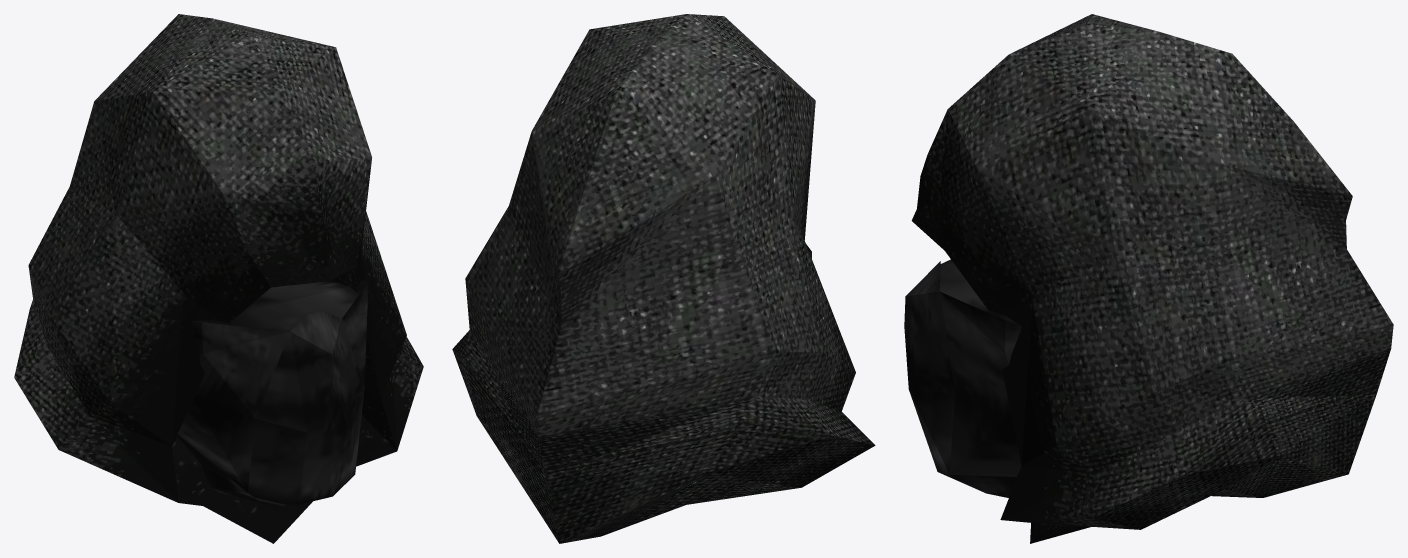
The model's file is MASK_CZAR.glb.
3 renders of one model, left to right at view 1: azimuth 30°, elevation 25°; view 2: azimuth 150°, elevation 25°; view 3: azimuth 270°, elevation 25°, orthographic. The views are drawn at different scales.
Parts seen in each view (by area): view 1: MASK_CZAR; view 2: MASK_CZAR; view 3: MASK_CZAR.
Boxes of the visible parts, bbox=[...] form: MASK_CZAR: bbox=[14, 14, 423, 543]; MASK_CZAR: bbox=[452, 14, 875, 543]; MASK_CZAR: bbox=[904, 14, 1393, 543].
Bounding box in the file's own units: 0.3241 × 0.4106 × 0.3501.
2 materials, 2 textured.
